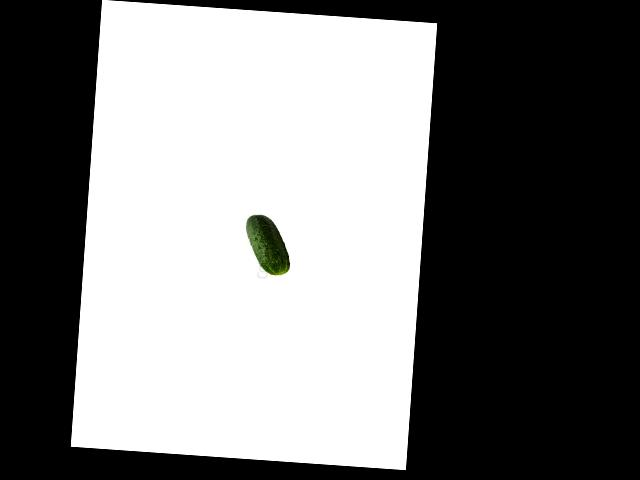cucumber: (242, 213, 292, 276)
